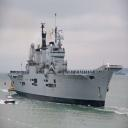Portanaves: (7, 9, 126, 111)
